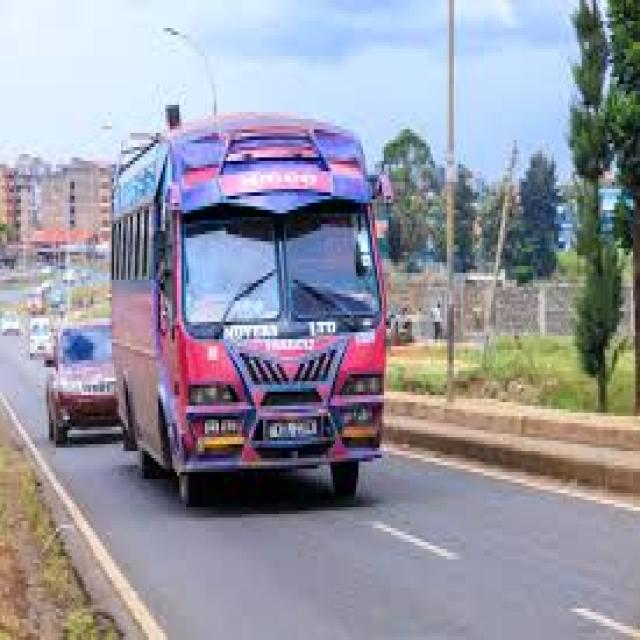bus: (96, 58, 404, 540)
